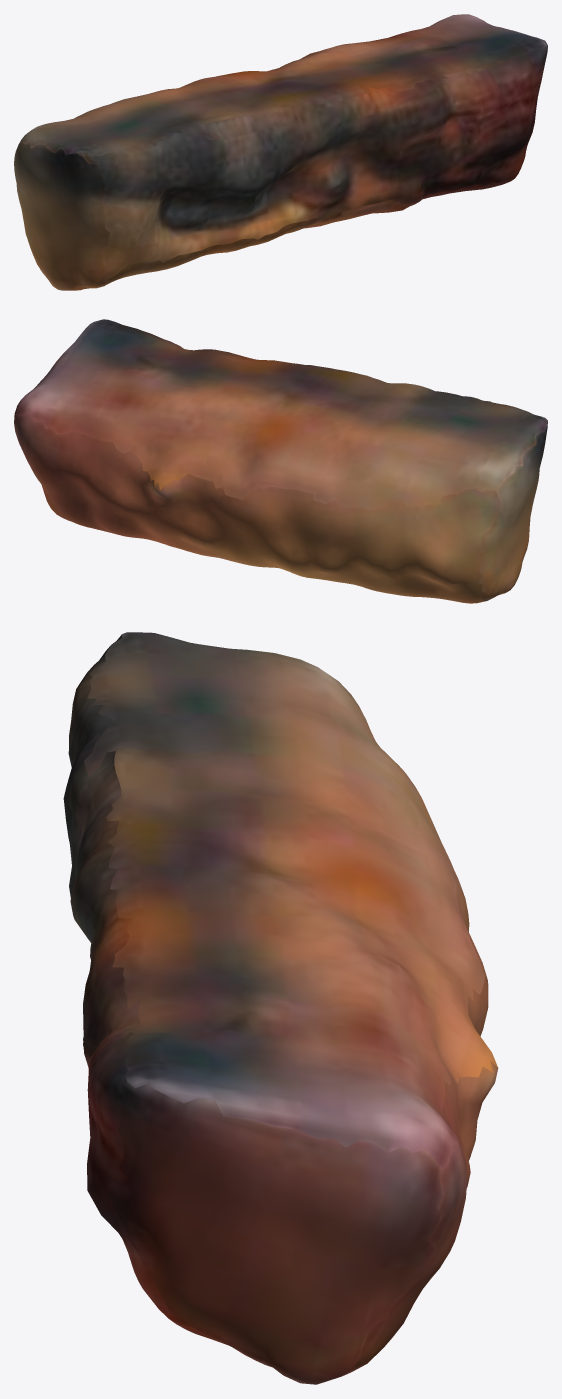
The model's file is 10_dish.glb.
3 renders of one model, top to bottom at view 1: azimuth 30°, elevation 25°; view 2: azimuth 150°, elevation 25°; view 3: azimuth 270°, elevation 25°, orthographic. The views are drawn at different scales.
Visible parts, largest first — view 1: 10_dish; view 2: 10_dish; view 3: 10_dish.
Part boxes in pixels (x1=…): 10_dish: x1=14, y1=14, x2=547, y2=290; 10_dish: x1=14, y1=319, x2=547, y2=603; 10_dish: x1=63, y1=632, x2=498, y2=1384.
Size of the model in its own units: 1.23 by 0.4034 by 0.487.
1 material, 1 textured.
